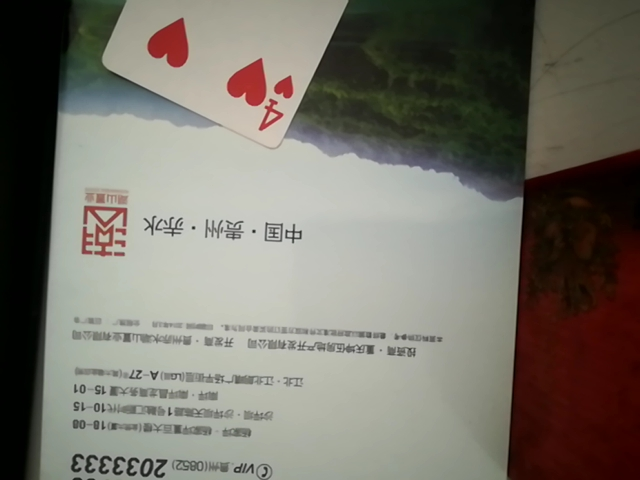hx 4: (94, 0, 406, 146)
